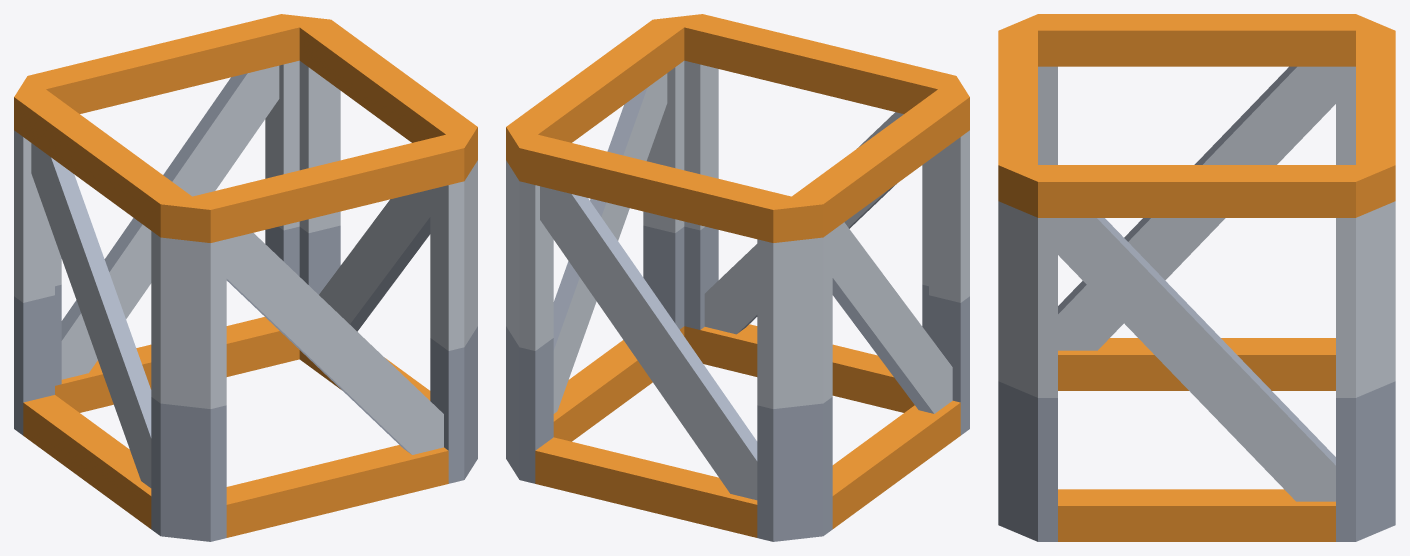
File: structure_diagonal.glb
3 renders of one model, left to right at view 1: azimuth 30°, elevation 25°; view 2: azimuth 150°, elevation 25°; view 3: azimuth 270°, elevation 25°, orthographic. The views are drawn at different scales.
Visible parts, largest first — view 1: structure_diagonal; view 2: structure_diagonal; view 3: structure_diagonal.
Part boxes in pixels (x1,y1,x2,y2): structure_diagonal: (14, 14, 477, 541); structure_diagonal: (506, 14, 969, 541); structure_diagonal: (998, 14, 1395, 541).
Bounding box in the file's own units: 1 × 1 × 1.
